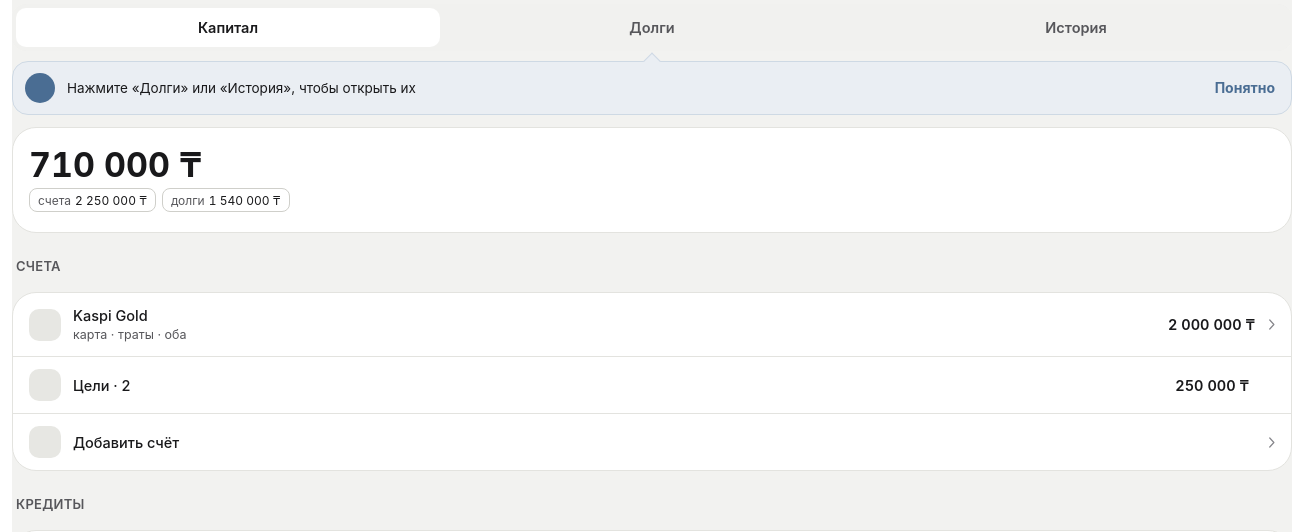
Test case: PN-05: плашка Капитала — формула «счета − долги» и аккордеон статистики › дохода нет — одна строка «Нет дохода месяца — задайте оклад», ни полоски, ни строк
The width and height of the screenshot is (1304, 532).
What coordinates should you click on to do the following:
click the button "710 000 ₸ счета 2 250 000 ₸ долги 1 540 000 ₸"
I would click on:
 (115, 165)
Its box is [12,127,1292,233].
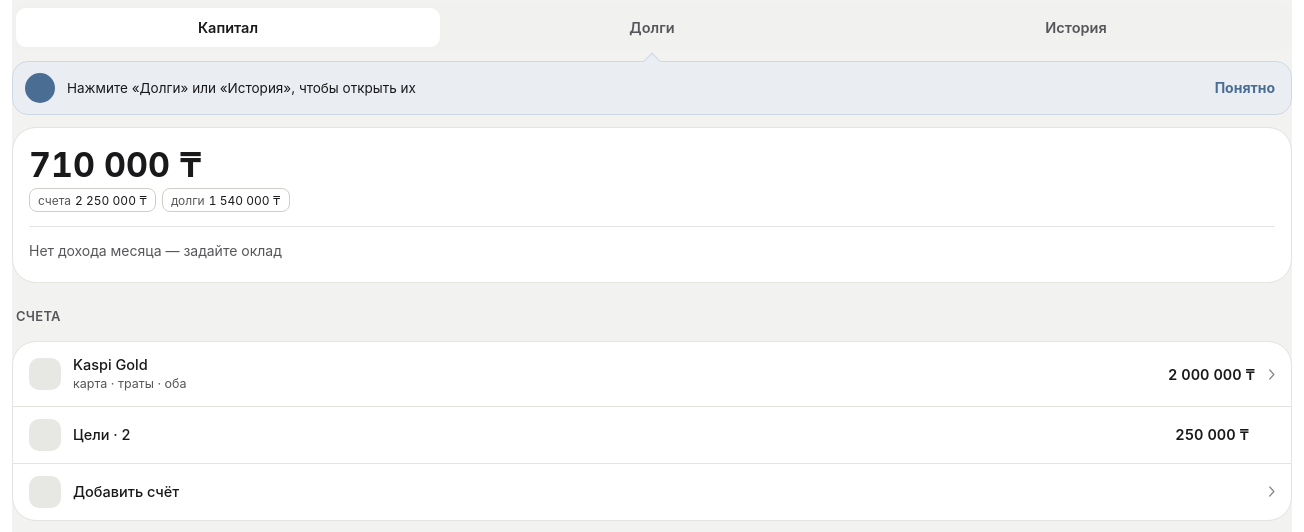
expect the text "Нет дохода месяца — задайте оклад" is shown: met, box [29,242,282,259]
